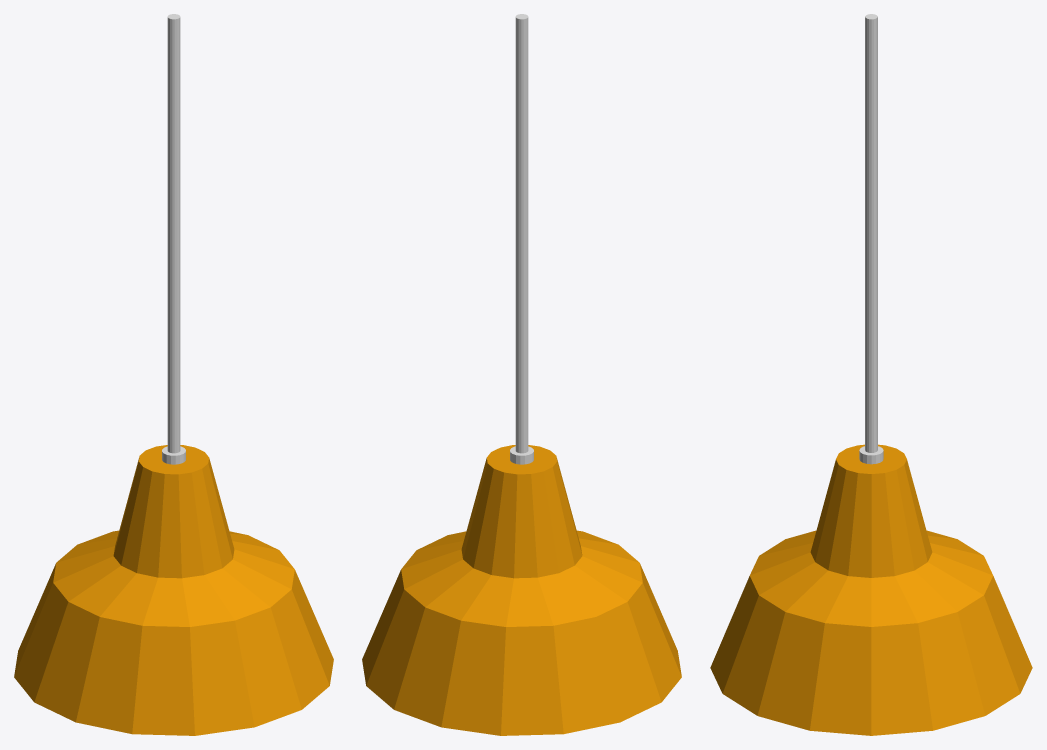
File: 70s.Lamp.Ceiling.fbx
3 views of the same model, side by side, from view 1: azimuth 30°, elevation 25°; view 2: azimuth 150°, elevation 25°; view 3: azimuth 270°, elevation 25° (orthographic).
Visible parts, largest first — view 1: 70s.Lamp.Ceiling; view 2: 70s.Lamp.Ceiling; view 3: 70s.Lamp.Ceiling.
Part boxes in pixels (left/top/right/bottom): 70s.Lamp.Ceiling: left=14, top=14, right=333, bottom=735; 70s.Lamp.Ceiling: left=362, top=14, right=681, bottom=735; 70s.Lamp.Ceiling: left=710, top=14, right=1032, bottom=735.
Size of the model in its own units: 35 by 78.18 by 35.
